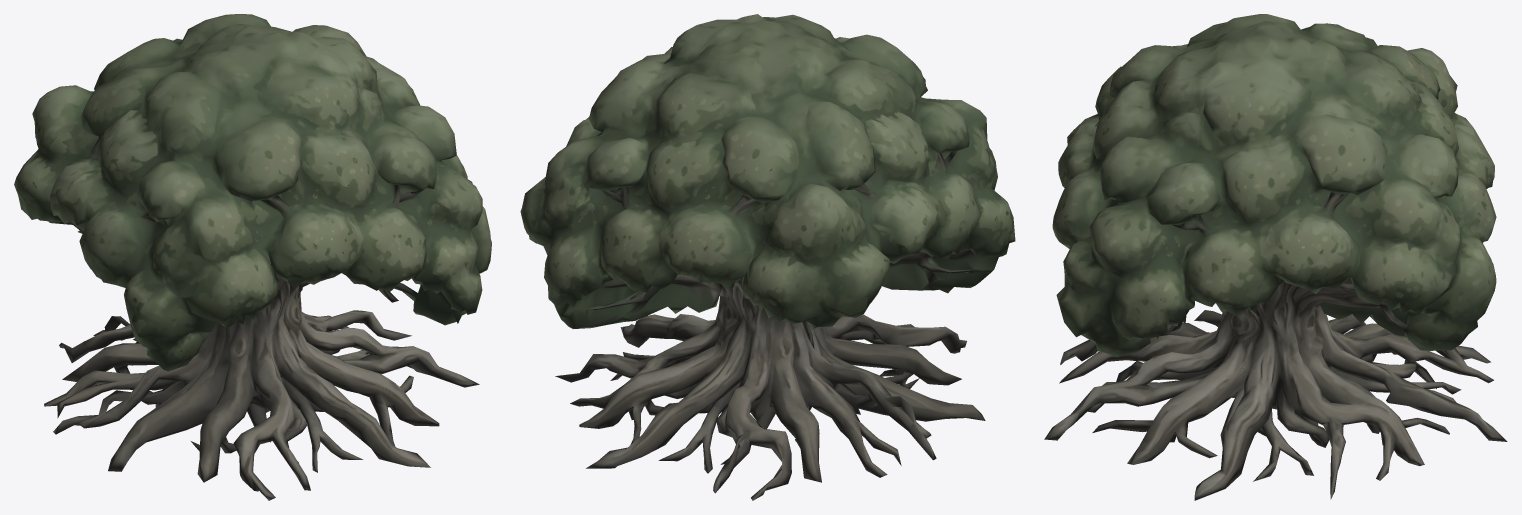
The model's file is c3456570-5aef-4dab-bfa2-b7ebeaaa86ce_model_url.glb.
The picture shows the model from 3 angles, left to right: view 1: azimuth 30°, elevation 25°; view 2: azimuth 150°, elevation 25°; view 3: azimuth 270°, elevation 25°; orthographic projection. The views are drawn at different scales.
Visible parts, largest first — view 1: tripo_node_c3456570-5aef-4dab-bfa2-b7ebeaaa86ce; view 2: tripo_node_c3456570-5aef-4dab-bfa2-b7ebeaaa86ce; view 3: tripo_node_c3456570-5aef-4dab-bfa2-b7ebeaaa86ce.
Boxes of the visible parts, x1,y1,x2,y2 form: tripo_node_c3456570-5aef-4dab-bfa2-b7ebeaaa86ce: [14, 14, 491, 500]; tripo_node_c3456570-5aef-4dab-bfa2-b7ebeaaa86ce: [520, 14, 1015, 500]; tripo_node_c3456570-5aef-4dab-bfa2-b7ebeaaa86ce: [1044, 14, 1507, 500].
Size of the model in its own units: 0.9448 by 0.8925 by 1.
1 material, 1 textured.
